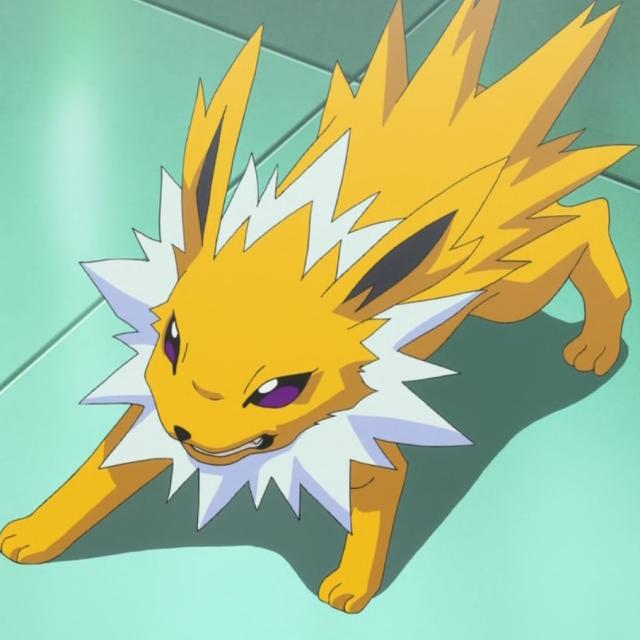Jolteon: (84, 99, 621, 594)
